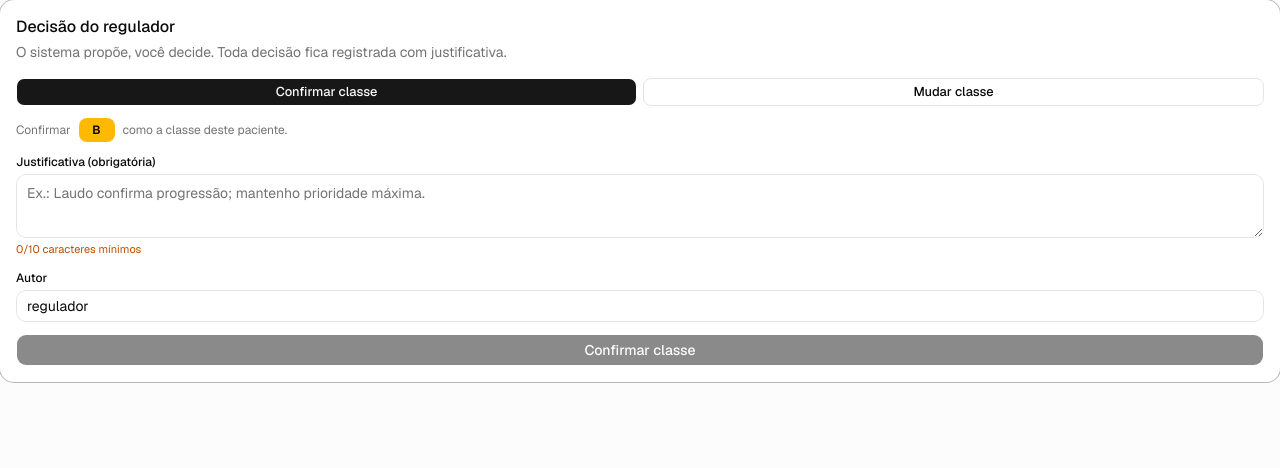
it: PainelDecisao: confirmar classe › mostra o motivo quando o backend recusa a decisão e mantém o texto digitado
The image size is (1280, 468).
Type "Laudo confirma progressão." into the text box labelled "Justificativa (obrigatória) 0/10 caracteres mínimos".
click(640, 206); type("Laudo confirma progressão.")  # box 16,174 -> 1264,238
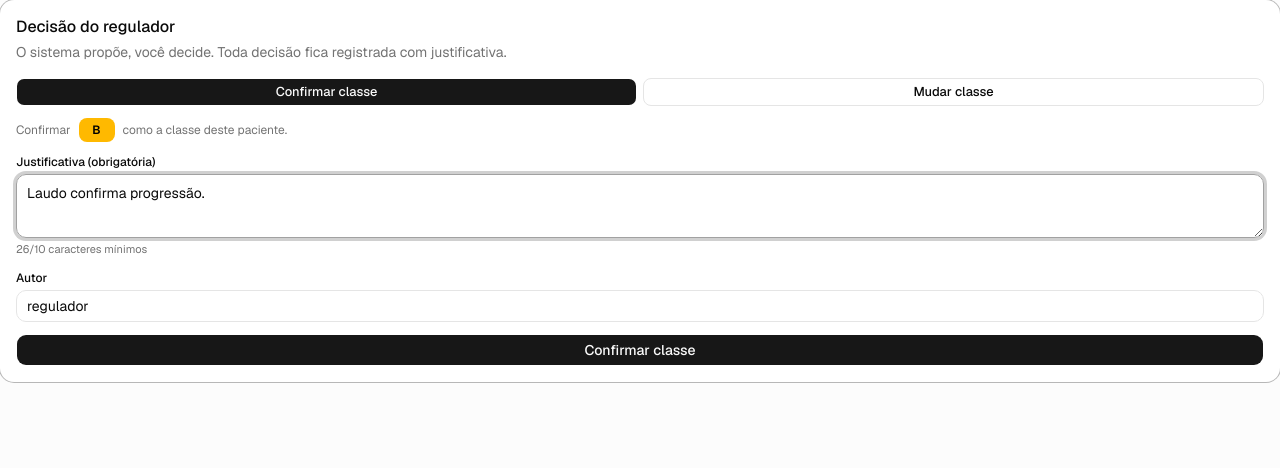
Click the 2nd button "Confirmar classe".
click(640, 350)  # box 16,334 -> 1264,366
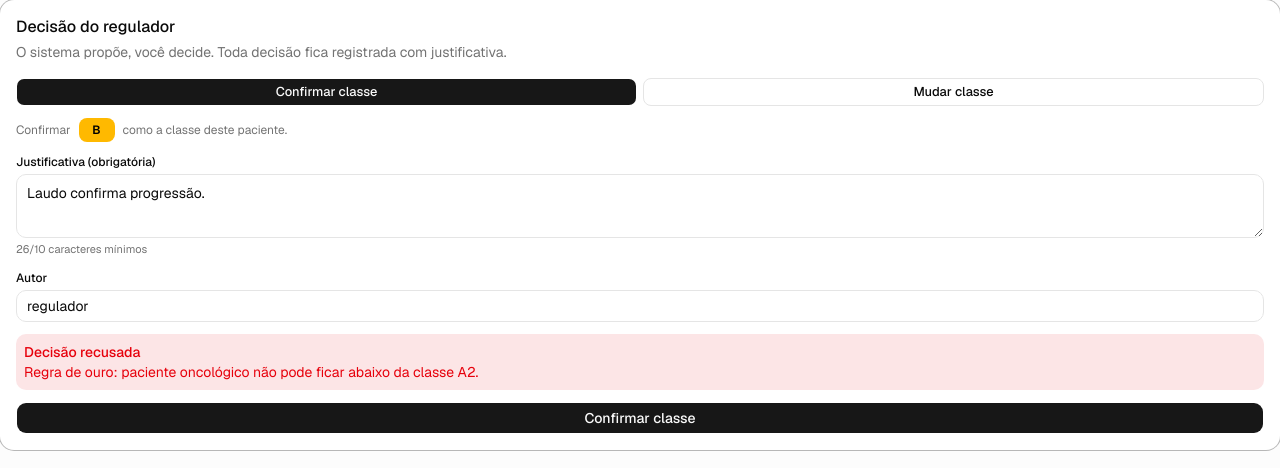
expect the message shows "Decisão recusada": met, box 24,343 -> 140,361
expect the message shows "Regra de ouro": met, box 24,363 -> 478,381
